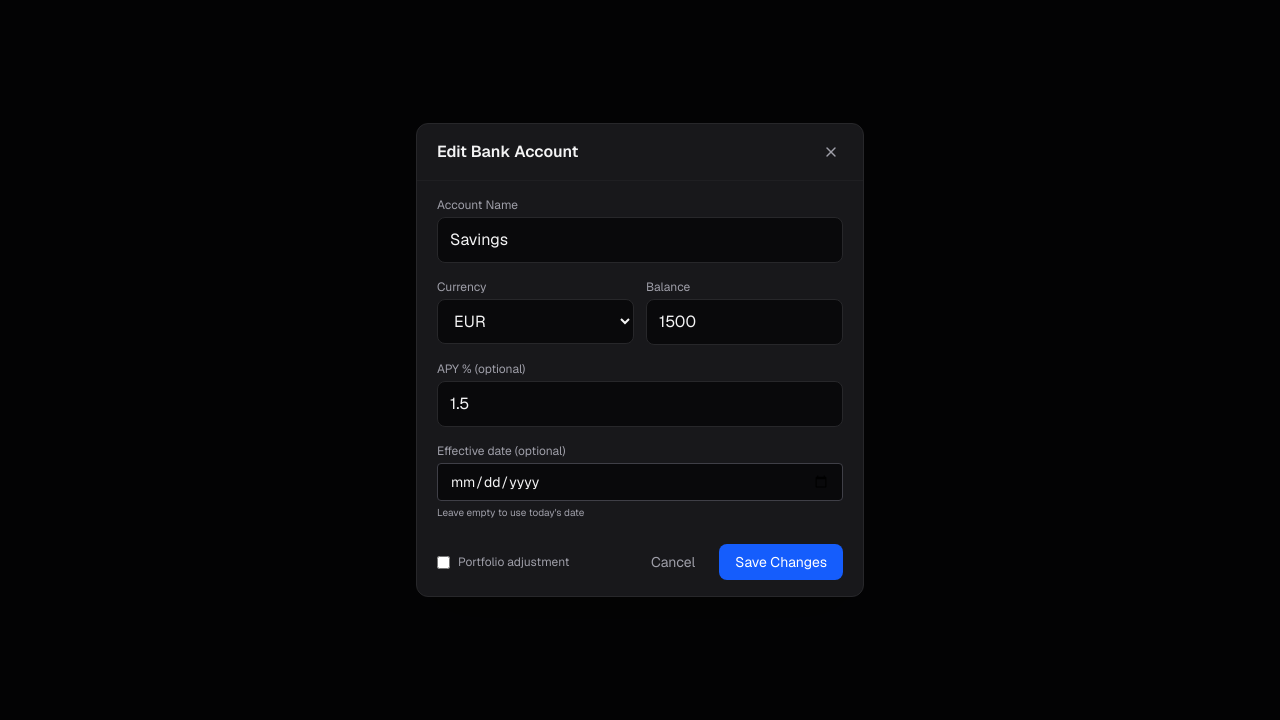
it: CashAccountModal — input validation › blocks save on edit when APY is cleared (empty string → NaN)
This screenshot has width=1280, height=720.
Clear the number field labelled "APY % (optional)" at (640, 404), box [437,381,843,427]
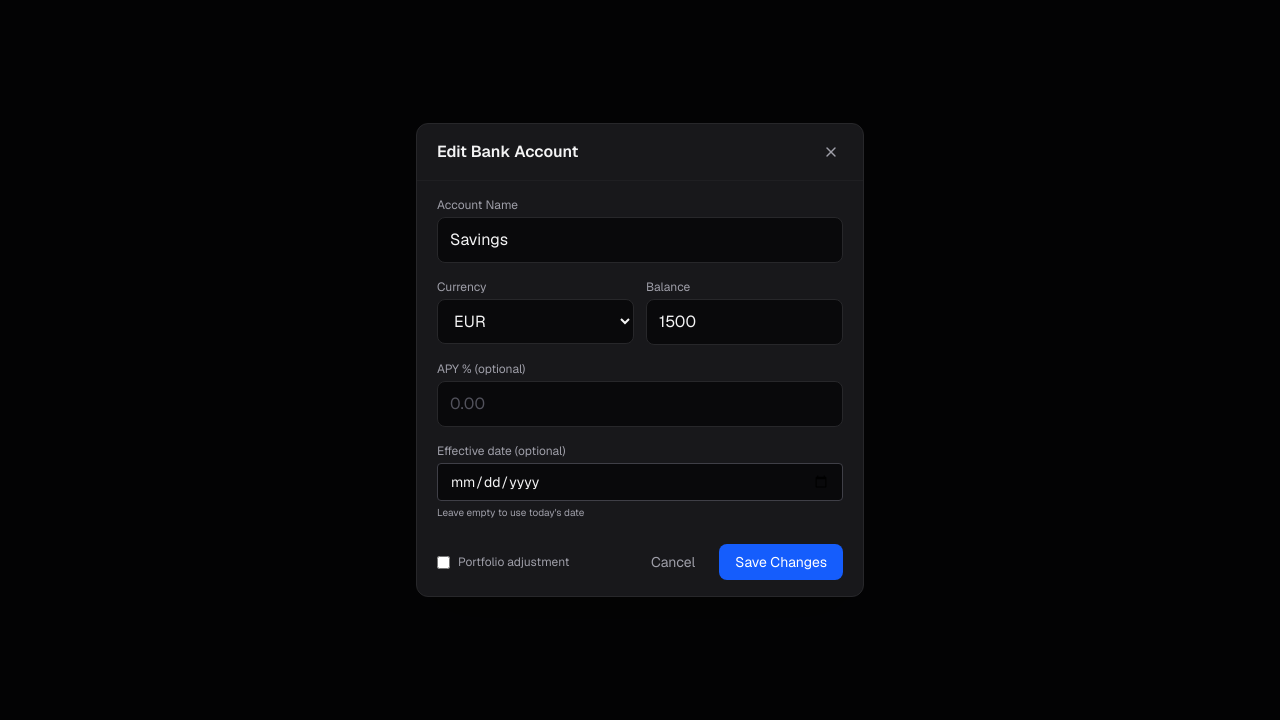
Submit the form, box [437,197,843,580]
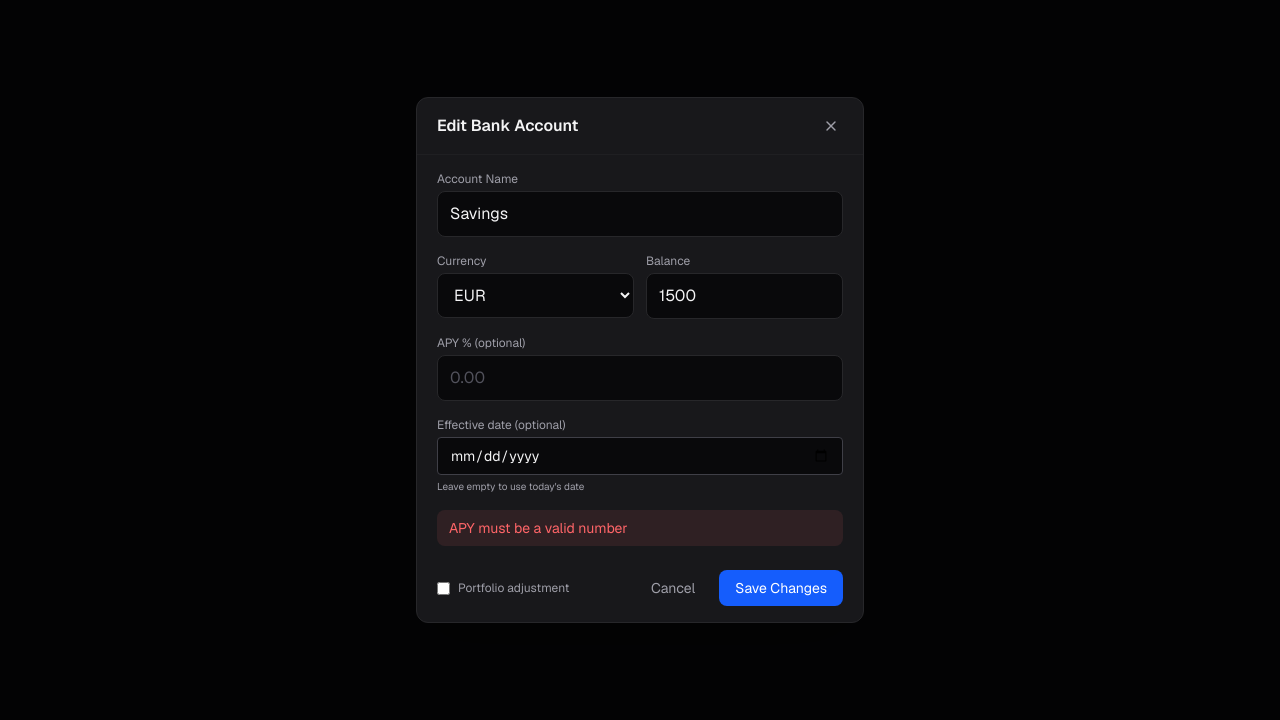
Result: the message reads "APY must be a valid number" at [449,519,628,537]
